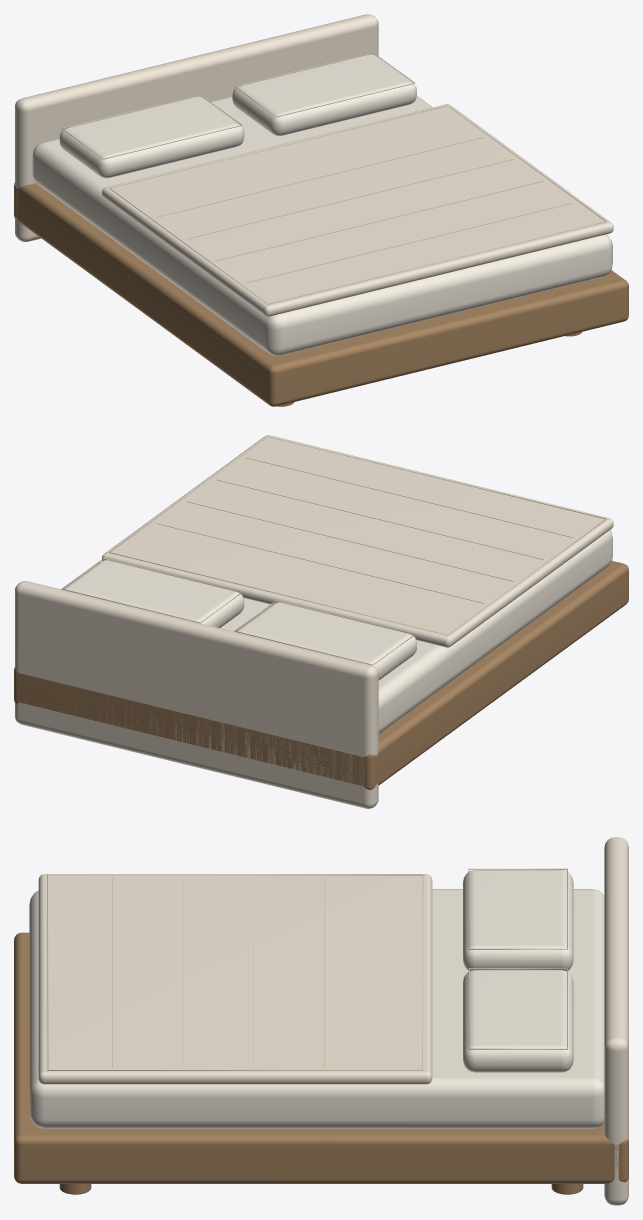
3 renders of one model, top to bottom at view 1: azimuth 30°, elevation 25°; view 2: azimuth 150°, elevation 25°; view 3: azimuth 270°, elevation 25°, orthographic. The views are drawn at different scales.
Visible parts, largest first — view 1: quilt, frame, mattress, headboard, pillow_0, pillow_1, seam_quilt, seam_pillow_1, seam_pillow_0; view 2: quilt, headboard, frame, mattress, pillow_0, pillow_1, seam_quilt, seam_pillow_0, seam_pillow_1; view 3: quilt, mattress, frame, pillow_1, pillow_0, headboard, seam_quilt, seam_pillow_1, seam_pillow_0.
Boxes of the visible parts, x1,y1,x2,y2 form: quilt: [102, 104, 613, 316]; frame: [14, 183, 628, 406]; mattress: [32, 96, 612, 355]; headboard: [15, 14, 378, 241]; pillow_0: [59, 96, 244, 178]; pillow_1: [232, 54, 416, 135]; seam_quilt: [109, 105, 606, 304]; seam_pillow_1: [234, 52, 415, 117]; seam_pillow_0: [61, 94, 242, 159]; quilt: [102, 435, 613, 647]; headboard: [15, 581, 378, 808]; frame: [14, 561, 628, 789]; mattress: [220, 530, 612, 733]; pillow_0: [236, 602, 416, 680]; pillow_1: [63, 560, 244, 627]; seam_quilt: [109, 436, 606, 635]; seam_pillow_0: [234, 600, 415, 665]; seam_pillow_1: [61, 558, 242, 623]; quilt: [38, 874, 432, 1084]; mattress: [29, 889, 604, 1128]; frame: [14, 932, 628, 1183]; pillow_1: [463, 970, 573, 1072]; pillow_0: [463, 870, 573, 970]; headboard: [604, 837, 628, 1205]; seam_quilt: [47, 874, 423, 1070]; seam_pillow_1: [468, 968, 567, 1049]; seam_pillow_0: [468, 868, 567, 949].
Size of the model in its own units: 1.6 by 0.6 by 2.
